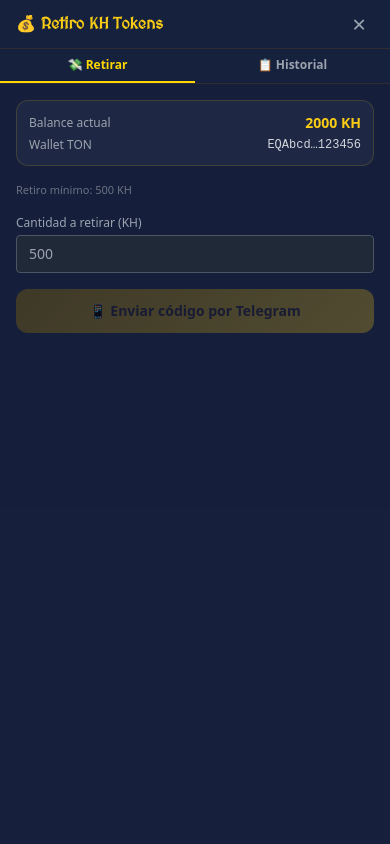
Scenario: WithdrawalPanel — History tab › shows empty state when no withdrawal history
Click the button "📋 Historial" at (292, 66), box [195, 49, 389, 83]
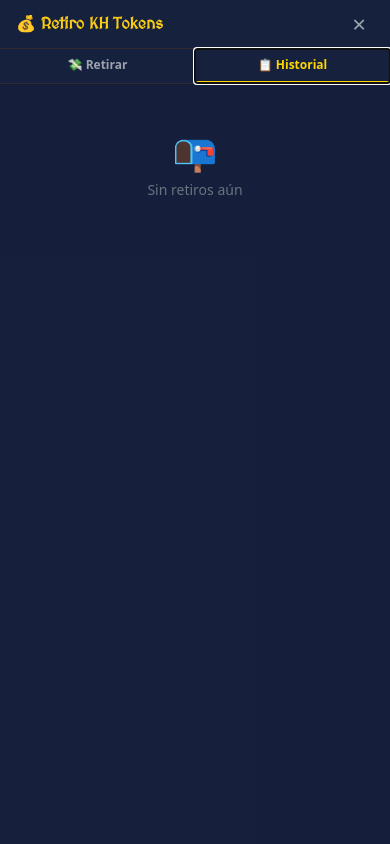
Expected: the text "Sin retiros aún" is shown, [147, 180, 242, 200]
